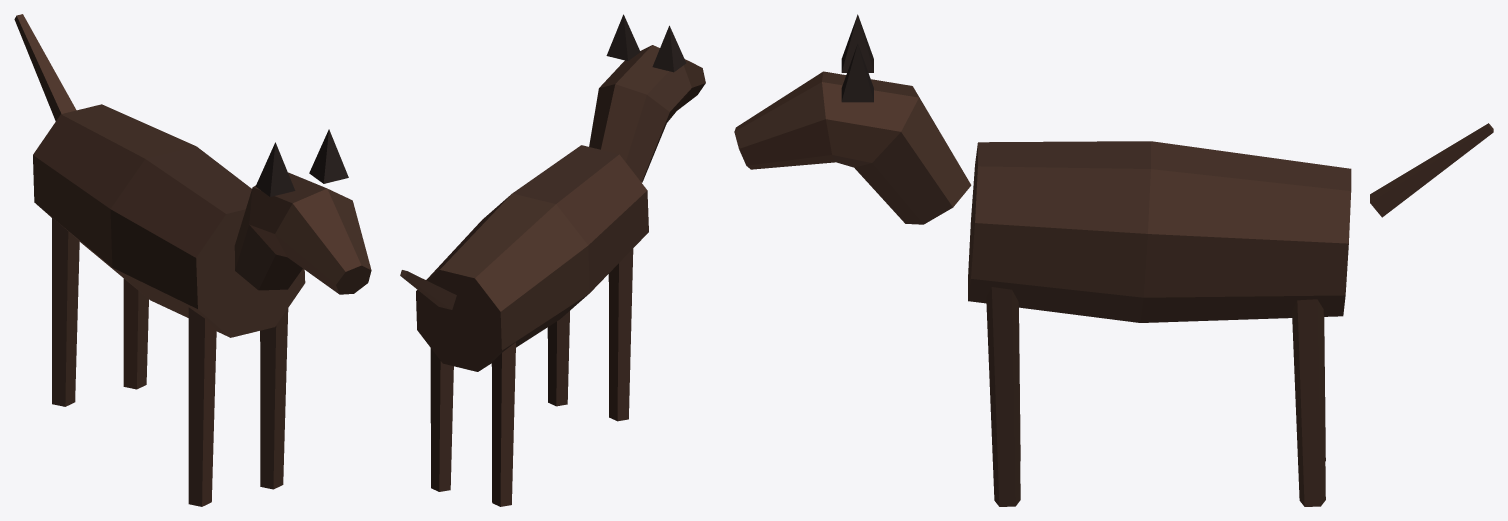
The model's file is walk_animal_dog.glb.
The picture shows the model from 3 angles, left to right: view 1: azimuth 30°, elevation 25°; view 2: azimuth 150°, elevation 25°; view 3: azimuth 270°, elevation 25°; orthographic projection. The views are drawn at different scales.
Visible parts, largest first — view 1: walk_animal_dog; view 2: walk_animal_dog; view 3: walk_animal_dog.
Boxes of the visible parts, x1,y1,x2,y2 form: walk_animal_dog: (14, 14, 371, 506); walk_animal_dog: (400, 14, 705, 506); walk_animal_dog: (734, 14, 1493, 506).
Bounding box in the file's own units: 0.2772 × 0.8705 × 1.32.
Materials: 1 (1 with a texture image).
